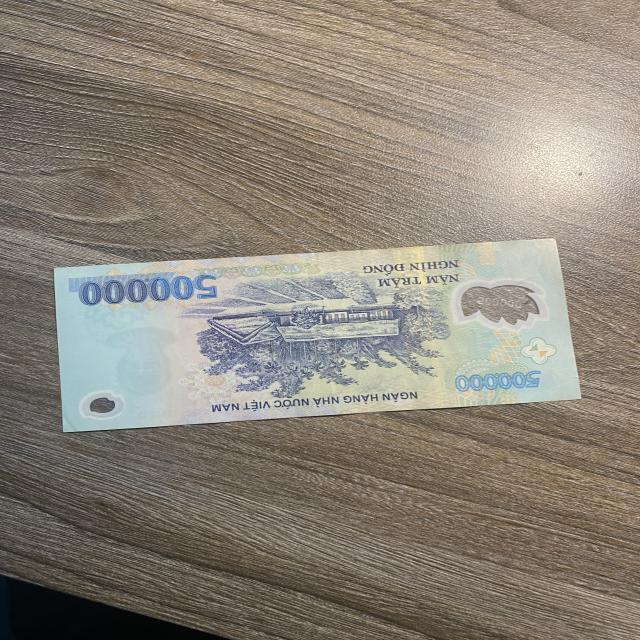500 000 VND: (53, 238, 583, 436)
